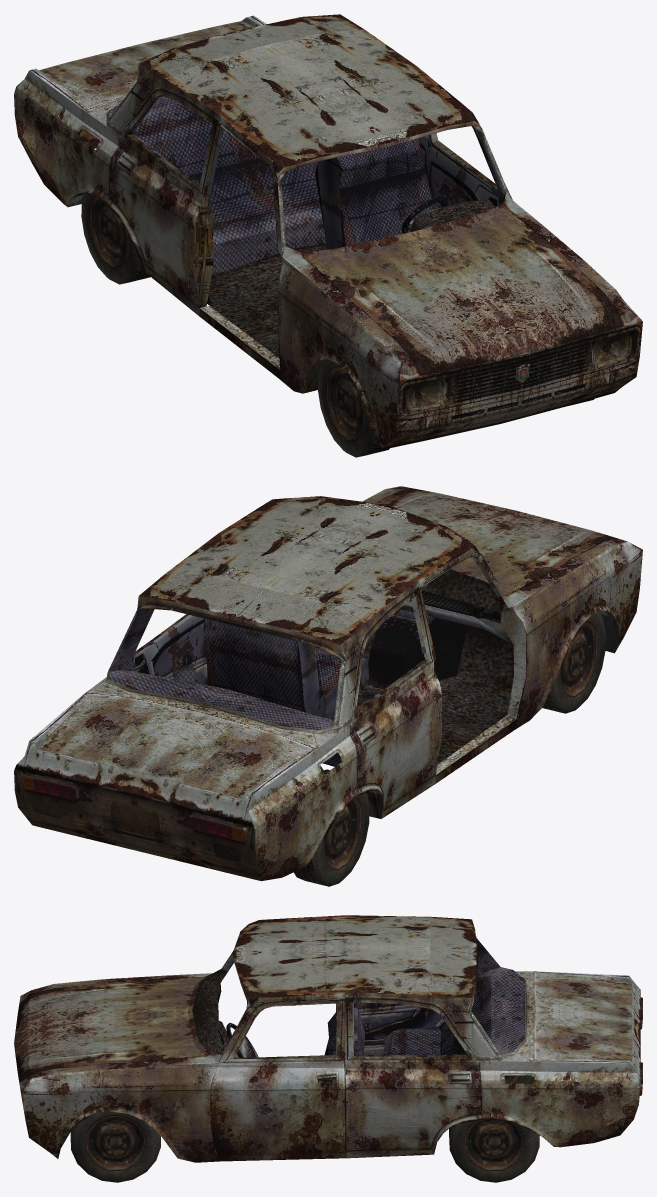
Rendered from car1.FBX.
The picture shows the model from 3 angles, top to bottom: view 1: azimuth 30°, elevation 25°; view 2: azimuth 150°, elevation 25°; view 3: azimuth 270°, elevation 25°; orthographic projection. The views are drawn at different scales.
Parts seen in each view (by area): view 1: car1; view 2: car1; view 3: car1.
Boxes of the visible parts, x1=… form: car1: x1=14, y1=14, x2=642, y2=457; car1: x1=14, y1=486, x2=642, y2=886; car1: x1=14, y1=915, x2=642, y2=1182.
Bounding box in the file's own units: 0.6856 × 0.6173 × 1.84.
Materials: 1 (1 with a texture image).
